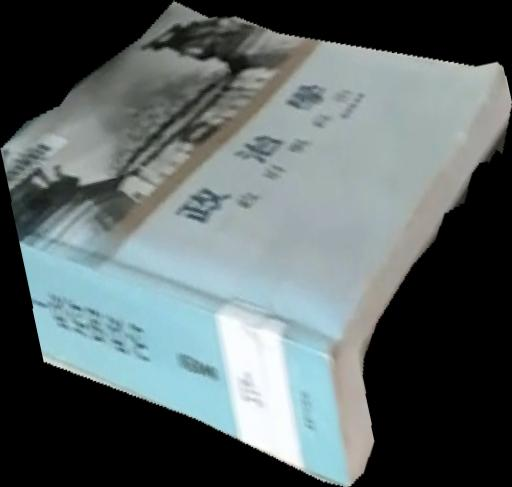flat: (1, 1, 512, 487)
